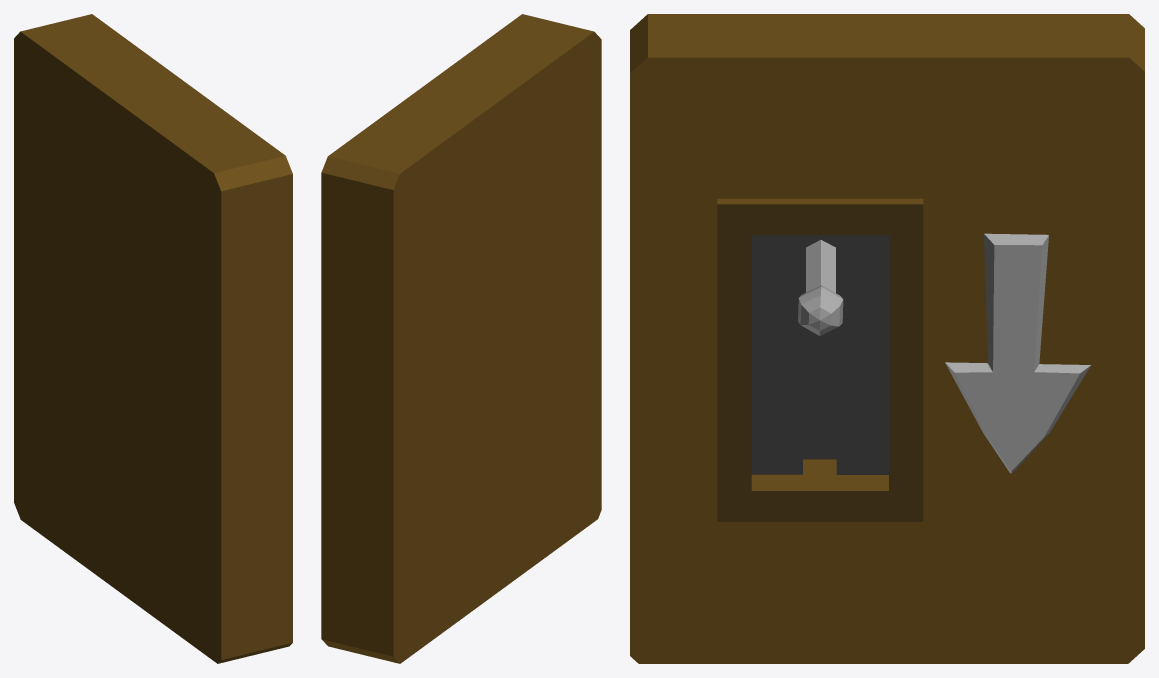
Rendered from Object_LeverDown.fbx.
3 views of the same model, side by side, from view 1: azimuth 30°, elevation 25°; view 2: azimuth 150°, elevation 25°; view 3: azimuth 270°, elevation 25° (orthographic). The views are drawn at different scales.
Parts seen in each view (by area): view 1: Object_Lever; view 2: Object_Lever; view 3: Object_Lever, Object_Lever6, Object_Lever4, Object_Lever2.
Boxes of the visible parts, x1,y1,x2,y2 form: Object_Lever: (14,14,292,663); Object_Lever: (321,14,601,663); Object_Lever: (630,14,1144,663); Object_Lever6: (945,233,1090,473); Object_Lever4: (798,285,843,335); Object_Lever2: (806,240,835,292).
Size of the model in its own units: 0.3849 by 1.3 by 1.
Materials: 2 (1 with a texture image).
